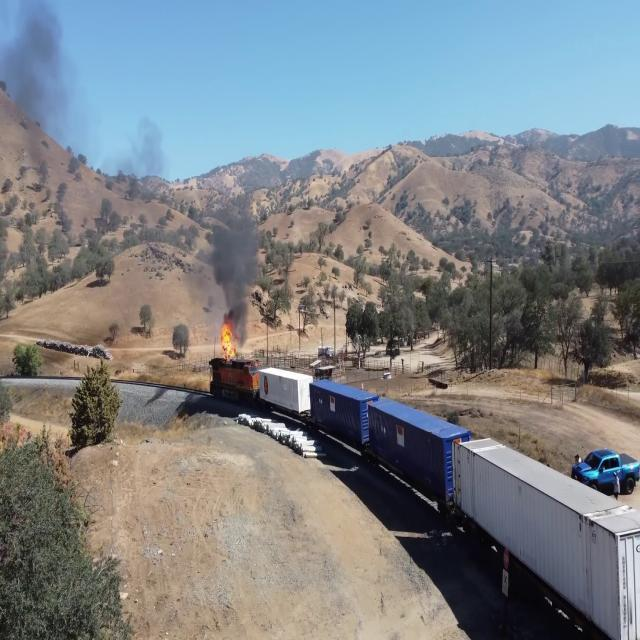Fire: (214, 319, 237, 359)
Smoke: (214, 191, 260, 318)
